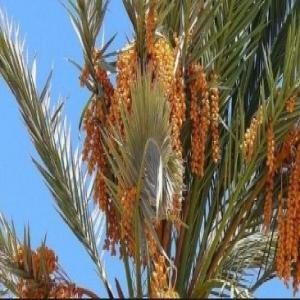palm tree: (0, 0, 298, 297)
